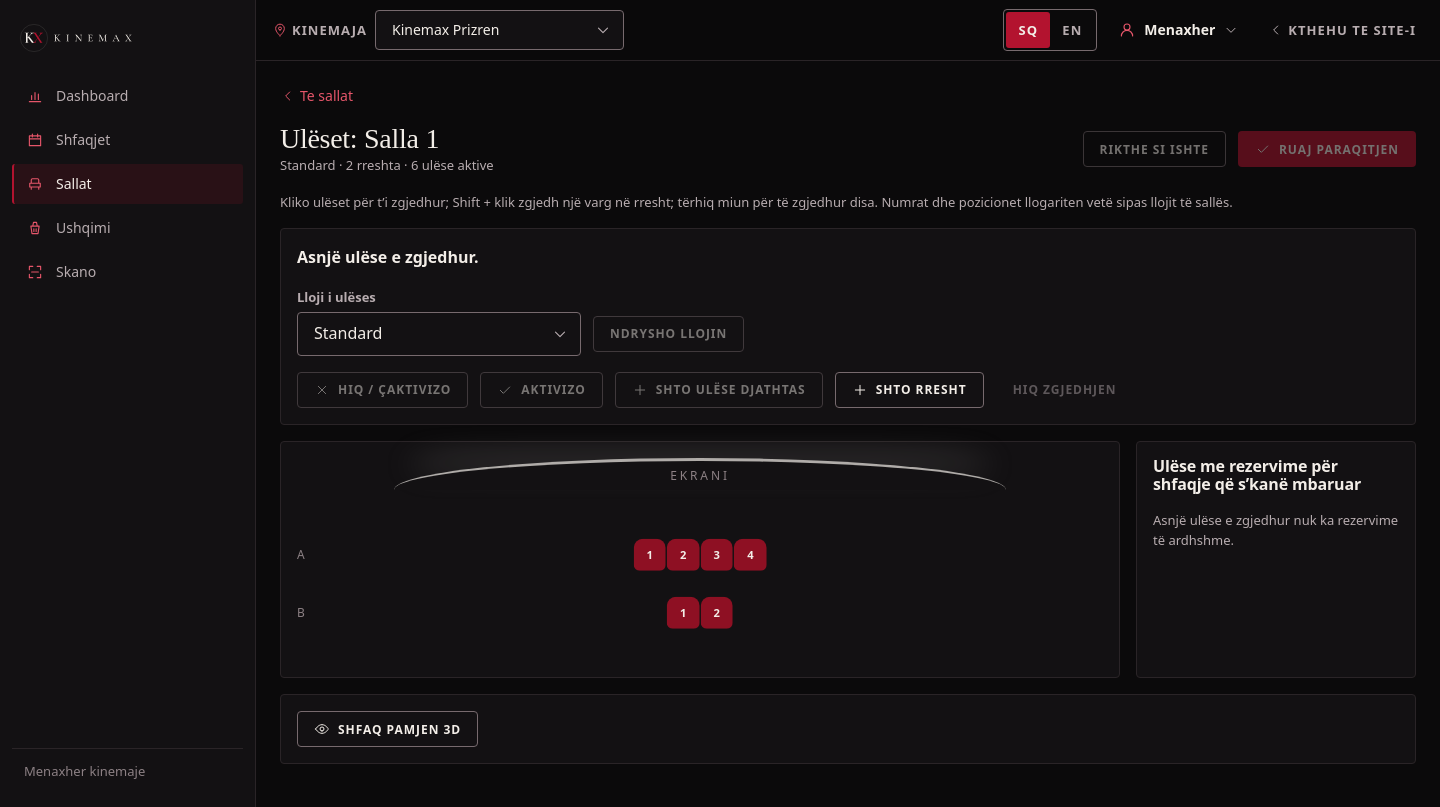
the seat editor › explains a refusal from the server with the seats it names
Click the button "Shto rresht".
click(909, 390)  # box [835, 372, 984, 408]
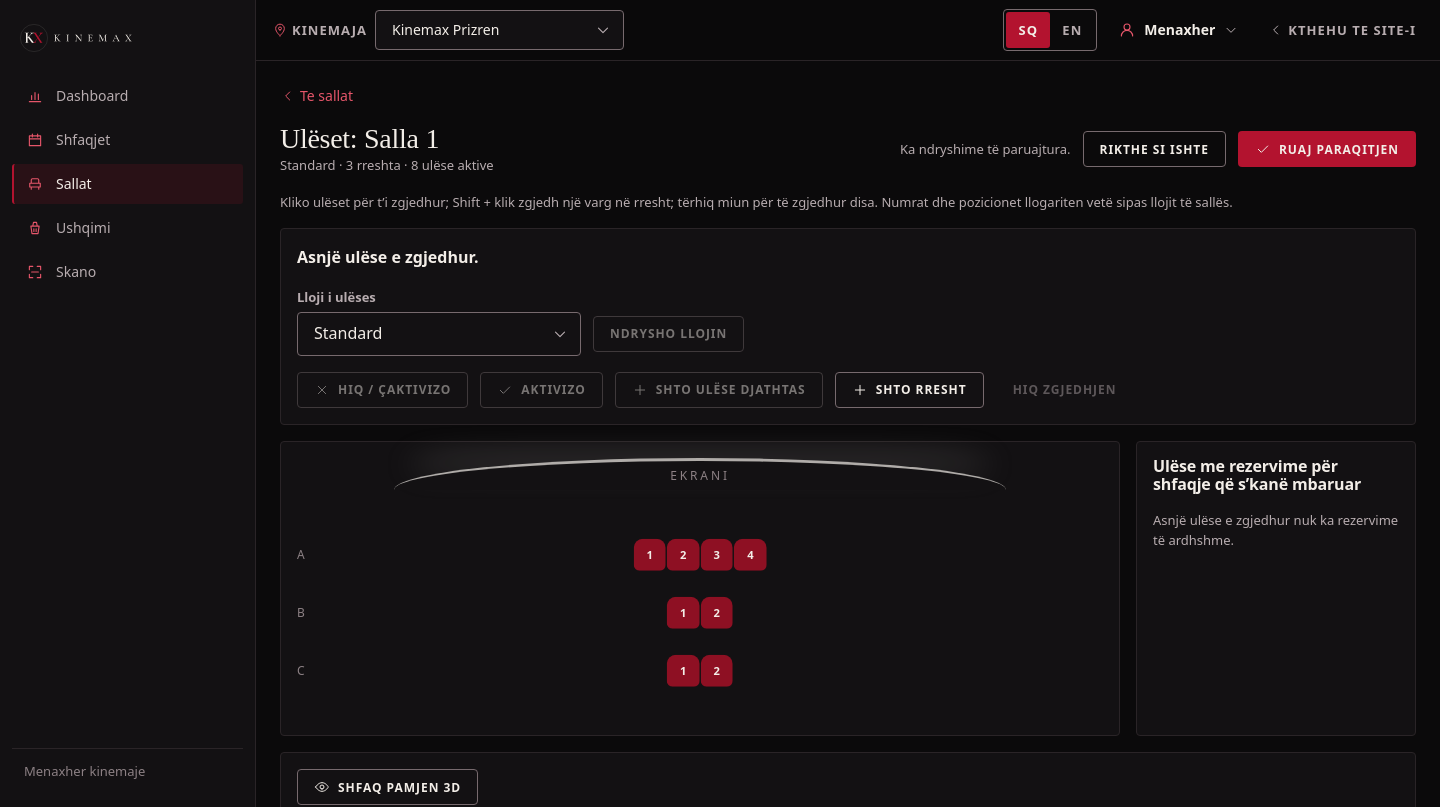
Click the button "Ruaj paraqitjen".
click(1327, 150)  # box [1238, 132, 1416, 168]
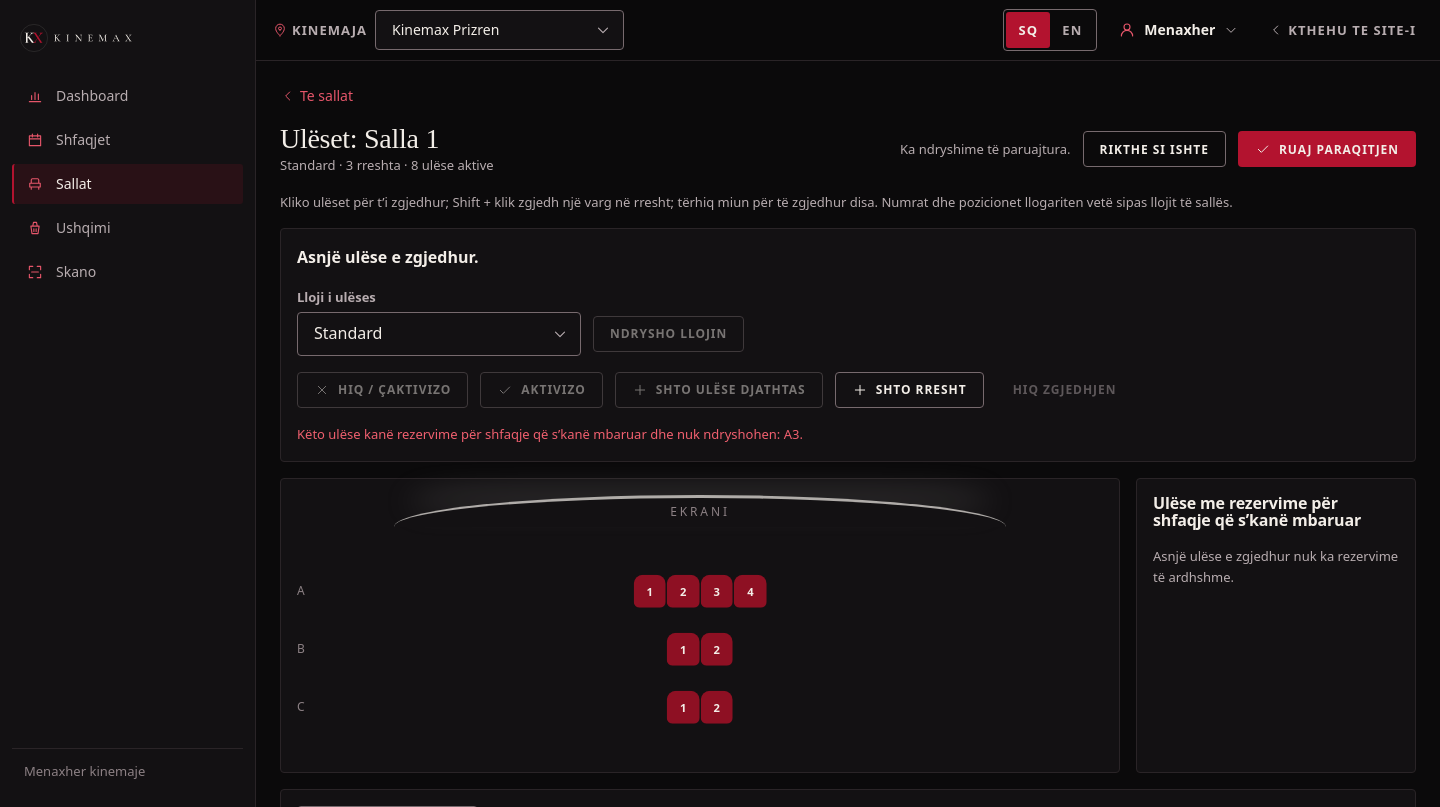
Expected: the 2nd message shows "nuk ndryshohen: A3.", [297, 425, 803, 443]
